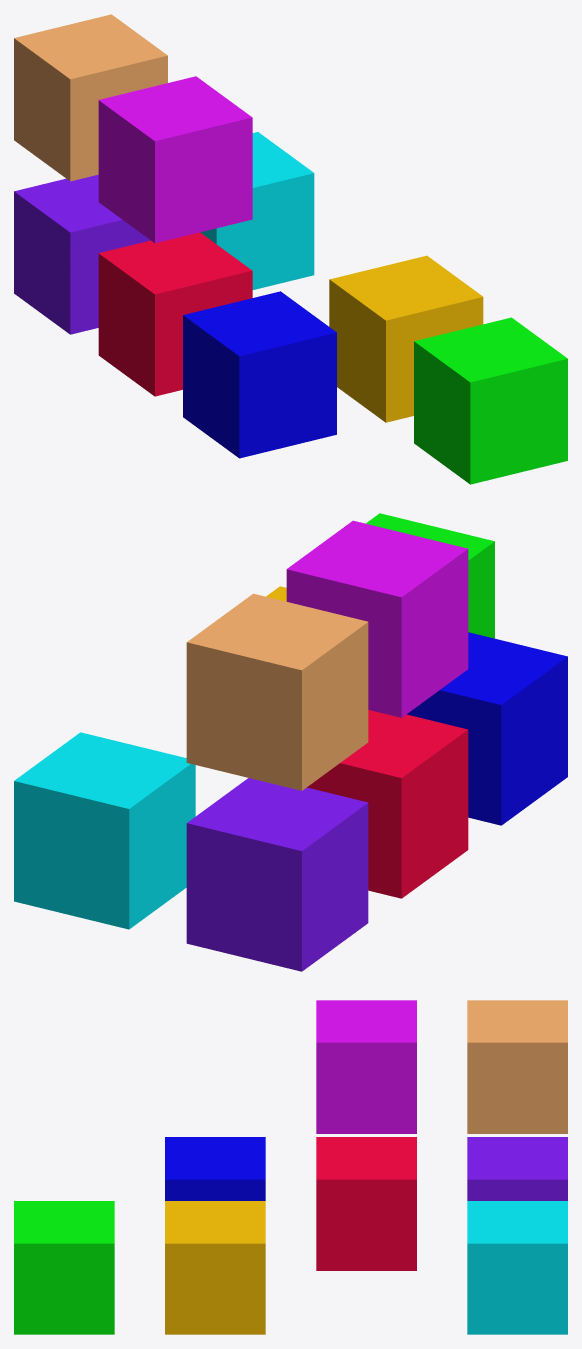
File: hieracrhy_test.gltf
3 renders of one model, top to bottom at view 1: azimuth 30°, elevation 25°; view 2: azimuth 150°, elevation 25°; view 3: azimuth 270°, elevation 25°, orthographic. The views are drawn at different scales.
Visible parts, largest first — view 1: Cube04, Cube02, Cube00, Cube05, Cube03, Cube01, Cube06, Cube07; view 2: Cube05, Cube06, Cube07, Cube04, Cube00, Cube03, Cube02; view 3: Cube01, Cube02, Cube03, Cube04, Cube05, Cube07, Cube00, Cube06.
Boxes of the visible parts, box(x1,y1,x2,y2) form: Cube04: box(98, 76, 252, 243); Cube02: box(414, 317, 567, 484); Cube00: box(183, 291, 336, 458); Cube05: box(14, 14, 167, 181); Cube03: box(98, 232, 252, 396); Cube01: box(329, 255, 483, 422); Cube06: box(14, 174, 150, 334); Cube07: box(200, 132, 314, 289); Cube05: box(186, 593, 368, 790); Cube06: box(186, 778, 368, 971); Cube07: box(14, 732, 195, 929); Cube04: box(286, 520, 468, 717); Cube00: box(407, 632, 567, 825); Cube03: box(307, 710, 468, 898); Cube02: box(366, 513, 494, 638); Cube01: box(165, 1201, 265, 1334); Cube02: box(14, 1201, 114, 1334); Cube03: box(316, 1137, 416, 1270); Cube04: box(316, 1000, 416, 1133); Cube05: box(467, 1000, 567, 1133); Cube07: box(467, 1201, 567, 1334); Cube00: box(165, 1137, 265, 1200); Cube06: box(467, 1137, 567, 1200).
Bounding box in the file's own units: 5 × 5 × 11.
